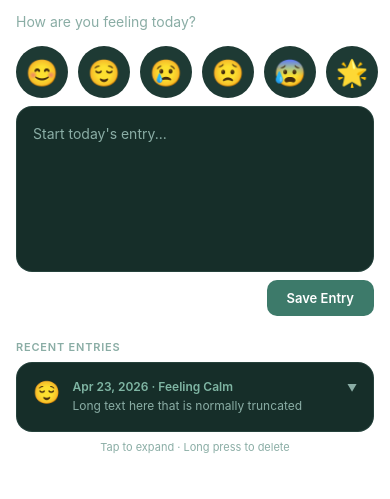
JournalPanel Component › allows expanding an entry
This screenshot has width=390, height=499.
Click the text "Long text here that is normally truncated" at (204, 406), box [72,397,335,415]
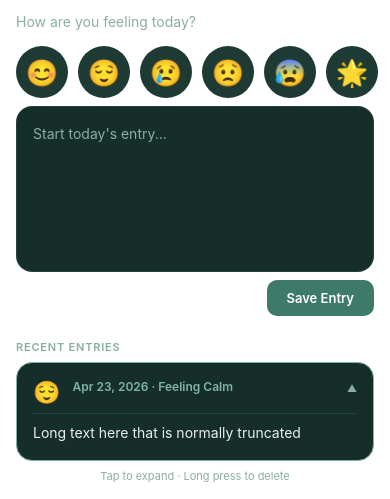
Now the text "▲" is shown, box [347,382,357,394]
